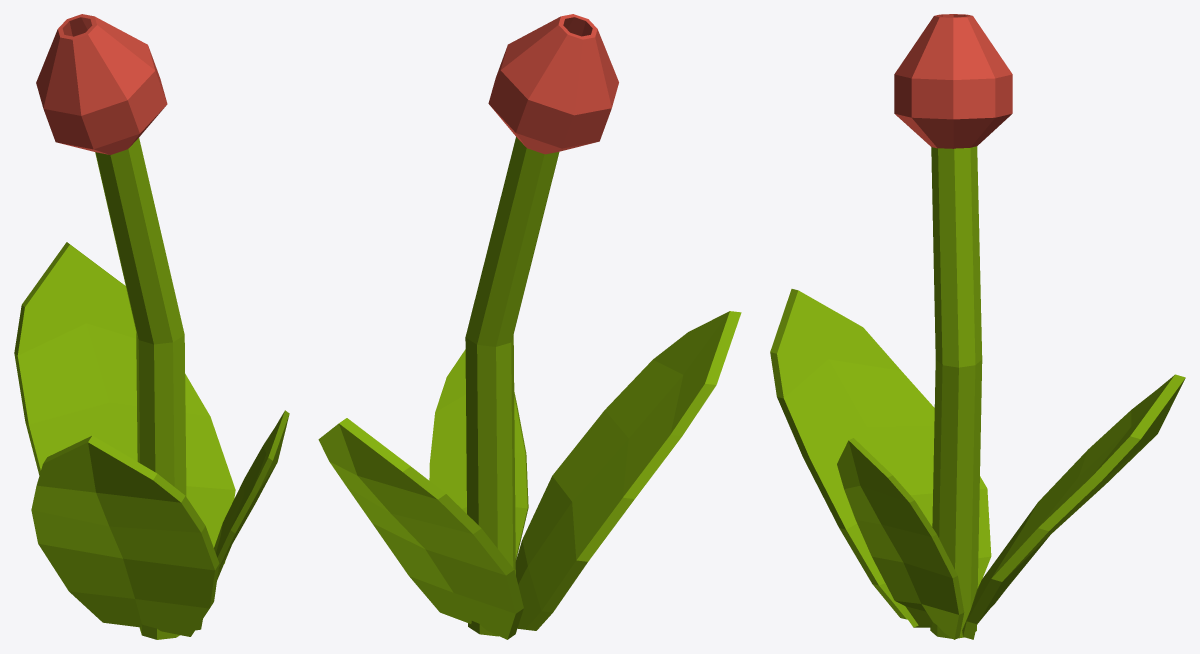
Rendered from FlowerStage3_withoutDirt.fbx.
The picture shows the model from 3 angles, left to right: view 1: azimuth 30°, elevation 25°; view 2: azimuth 150°, elevation 25°; view 3: azimuth 270°, elevation 25°; orthographic projection. The views are drawn at different scales.
Parts seen in each view (by area): view 1: Stage2_withoutDirt; view 2: Stage2_withoutDirt; view 3: Stage2_withoutDirt.
Part boxes in pixels (left/top/right/bottom): Stage2_withoutDirt: left=14, top=14, right=289, bottom=639; Stage2_withoutDirt: left=318, top=14, right=741, bottom=639; Stage2_withoutDirt: left=770, top=14, right=1185, bottom=639.
Bounding box in the file's own units: 40.45 × 90.92 × 58.73.
